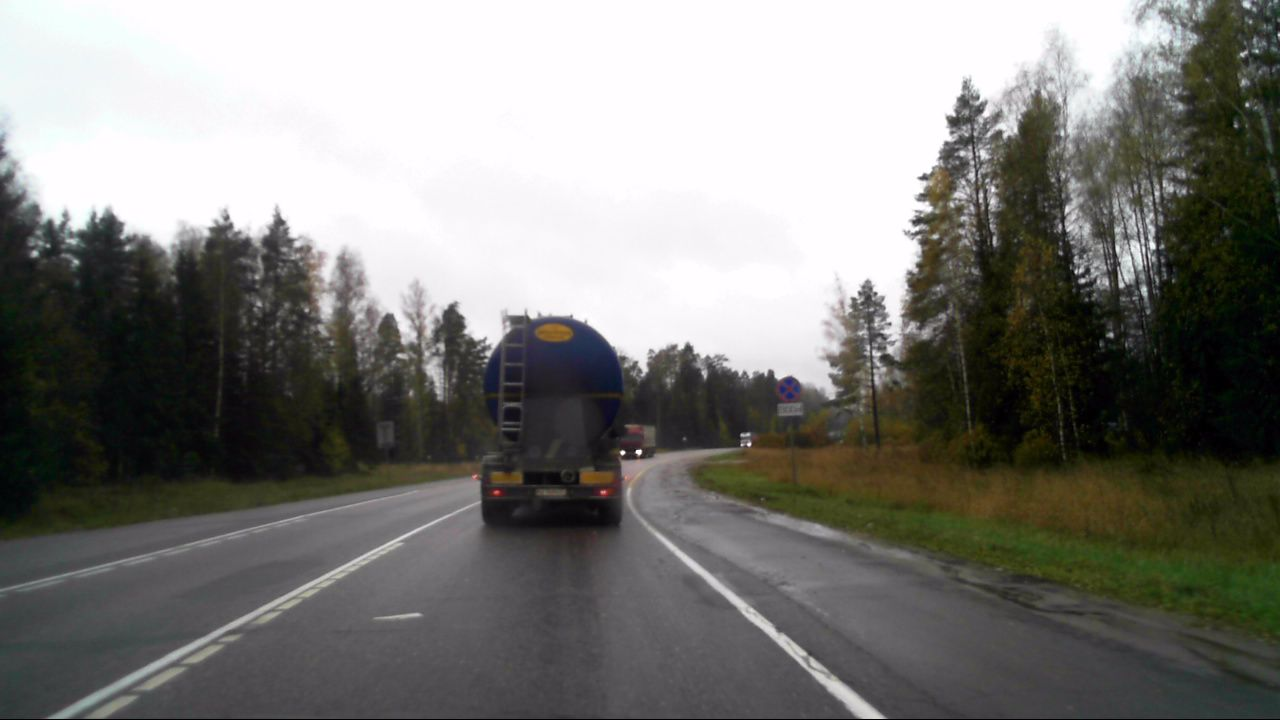No Parking: (775, 374, 803, 405)
